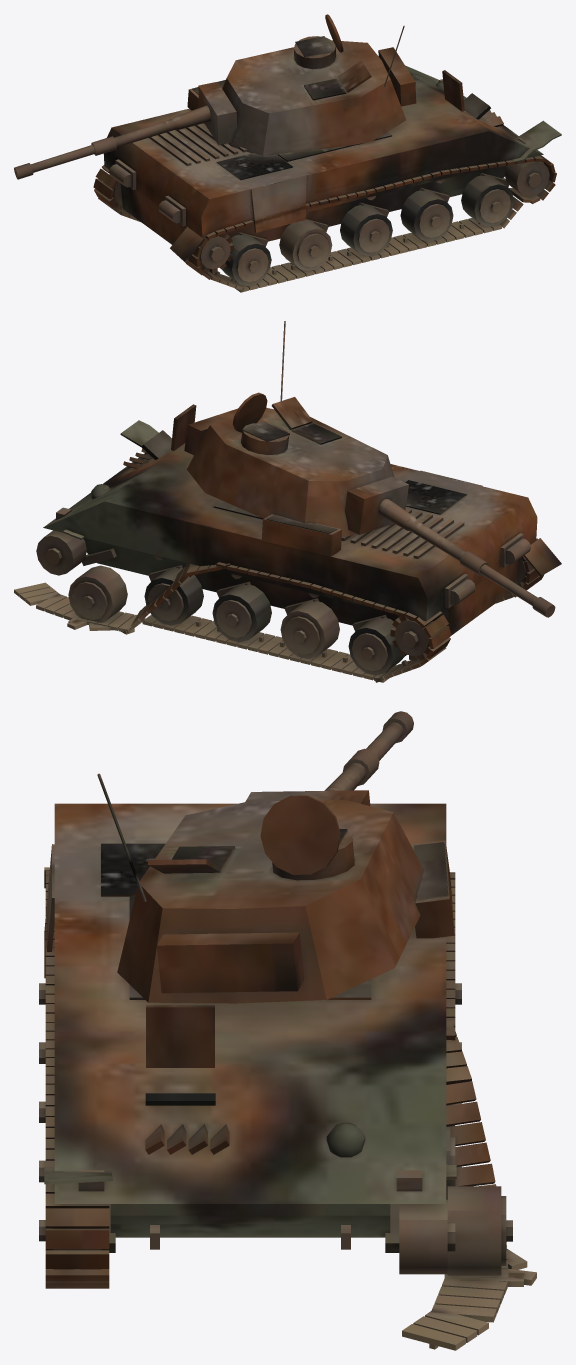
File: b08_wreck_tank.glb
3 views of the same model, one above another, from view 1: azimuth 30°, elevation 25°; view 2: azimuth 150°, elevation 25°; view 3: azimuth 270°, elevation 25° (orthographic). The views are drawn at different scales.
Parts seen in each view (by area): view 1: b08_wreck_tank; view 2: b08_wreck_tank; view 3: b08_wreck_tank.
Boxes of the visible parts, x1,y1,x2,y2 form: b08_wreck_tank: (14, 14, 561, 292); b08_wreck_tank: (14, 321, 561, 682); b08_wreck_tank: (39, 711, 536, 1350).
Size of the model in its own units: 1 by 0.4468 by 0.4627.
Materials: 1 (1 with a texture image).
